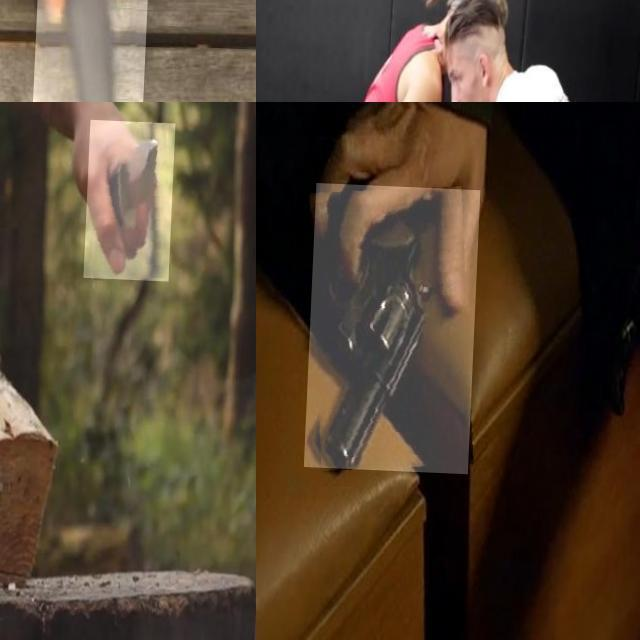-: (86, 117, 176, 278), (22, 0, 151, 102), (0, 6, 79, 102)
gun-knife-thesis - v11 Yolov5 augmented: (308, 181, 482, 471)
